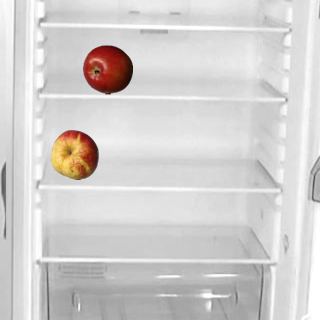Apple Braeburn: (82, 44, 132, 94)
Apple Red Yellow 1: (49, 129, 99, 179)
